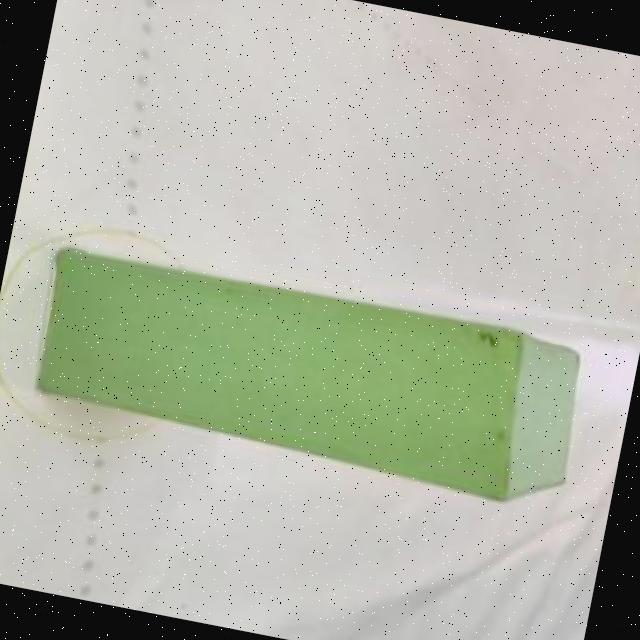greenbox: (22, 235, 592, 520)
